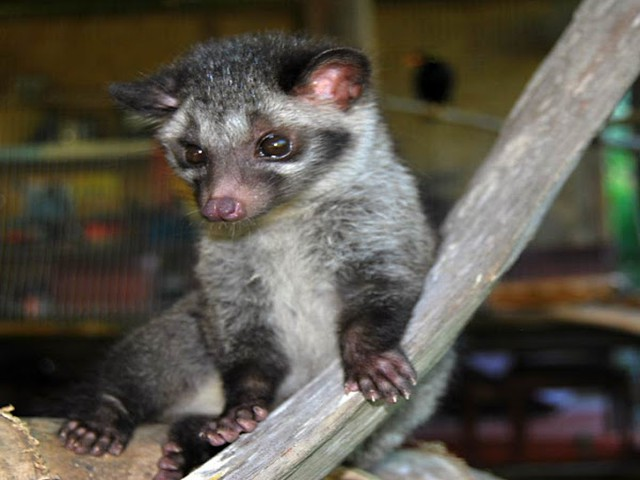civet: (55, 28, 426, 477)
